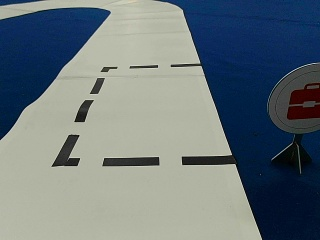company: (267, 64, 318, 132)
